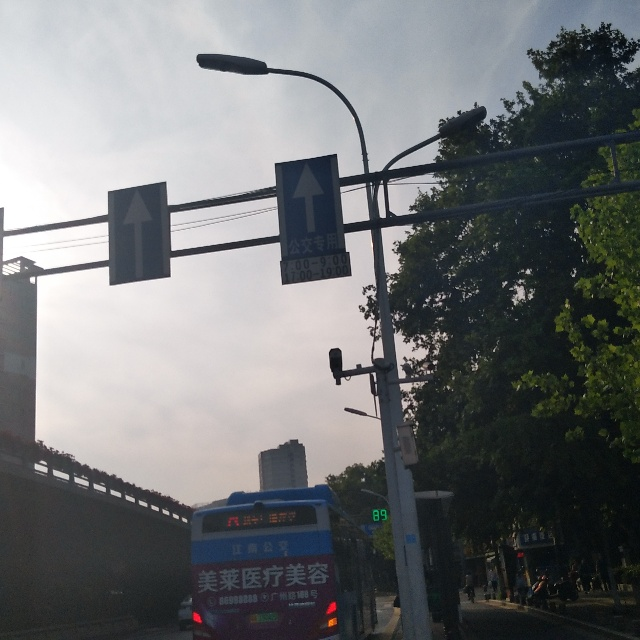straight: (102, 181, 176, 290)
